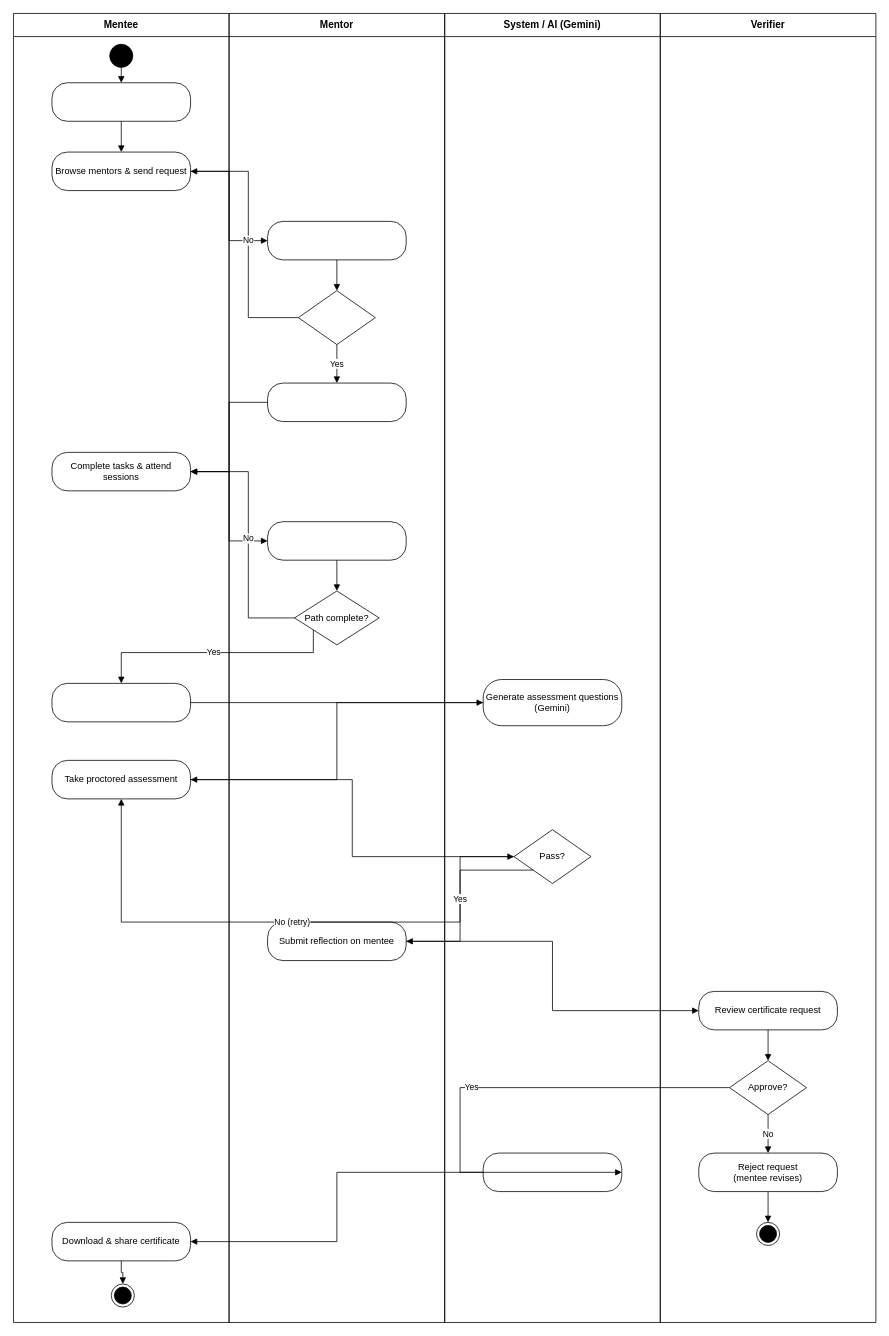
Image size: 889x1336. Some labels were removed from this diagram. The centre of each missing label's shape, as x and y in pixels:
"Accept?" belongs at (x=336, y=317).
"Create learning path & tasks" belongs at (x=336, y=402).
"Generate certificate (PDF + QR)" belongs at (x=552, y=1172).
"Grade submissions" belongs at (x=336, y=540).
"Register & set up profile" belongs at (x=121, y=101).
"Request certificate" belongs at (x=121, y=702).
"Review mentorship request" belongs at (x=336, y=240).
